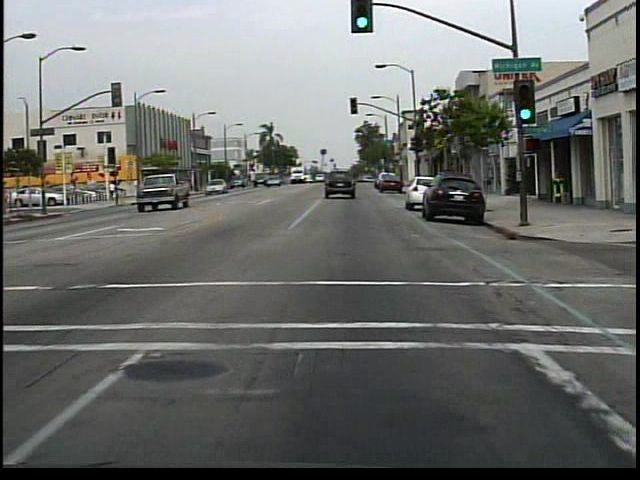person: (108, 180, 117, 205)
